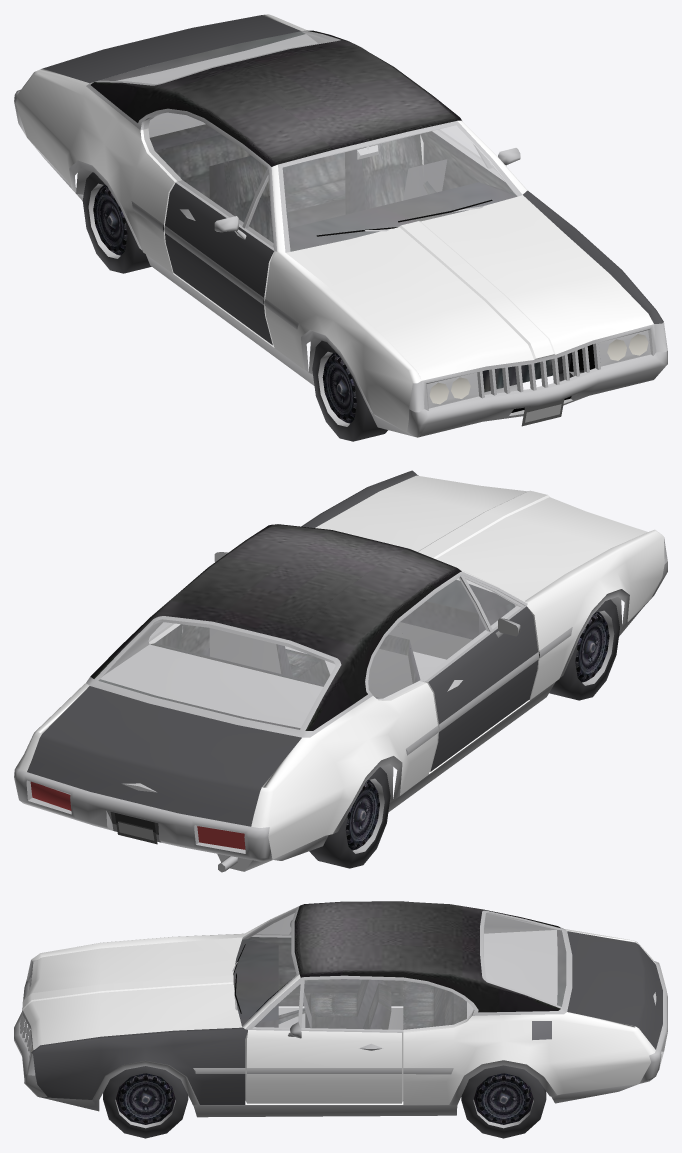
The model's file is clover.glb.
The picture shows the model from 3 angles, top to bottom: view 1: azimuth 30°, elevation 25°; view 2: azimuth 150°, elevation 25°; view 3: azimuth 270°, elevation 25°; orthographic projection. The views are drawn at different scales.
Parts seen in each view (by area): view 1: body, door_R, wheel_FR, wheel_BR, door_L; view 2: body, door_R, wheel_BR, wheel_FR, door_L; view 3: body, door_L, wheel_BL, wheel_FL, door_R.
Boxes of the visible parts, box(x1,y1,x2,y2) form: body: box(14, 14, 667, 437); door_R: box(164, 123, 274, 345); wheel_FR: box(312, 340, 387, 441); wheel_BR: box(82, 172, 151, 273); door_L: box(420, 126, 520, 192); body: box(14, 470, 667, 872); door_R: box(397, 575, 538, 771); wheel_BR: box(309, 767, 390, 868); wheel_FR: box(549, 599, 619, 700); door_L: box(180, 552, 227, 656); body: box(14, 901, 667, 1117); door_L: box(245, 979, 403, 1103); wheel_BL: box(461, 1065, 546, 1138); wheel_FL: box(103, 1066, 188, 1138); door_R: box(248, 913, 403, 1006).
Bounding box in the file's own units: 2.44 × 1.56 × 5.84.
6 materials, 3 textured.
